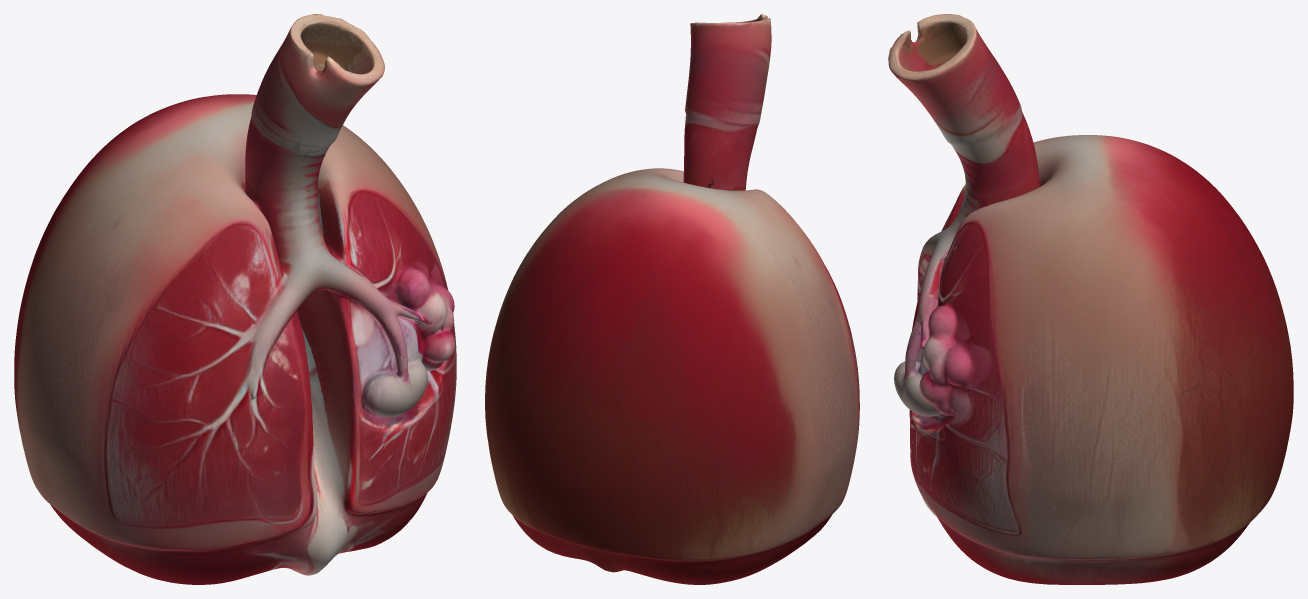
File: vet_v2_path_megaesophagus.glb
The picture shows the model from 3 angles, left to right: view 1: azimuth 30°, elevation 25°; view 2: azimuth 150°, elevation 25°; view 3: azimuth 270°, elevation 25°; orthographic projection. The views are drawn at different scales.
Visible parts, largest first — view 1: model; view 2: model; view 3: model.
Boxes of the visible parts, left/top/right/bottom form: model: left=14, top=14, right=456, bottom=584; model: left=485, top=14, right=859, bottom=584; model: left=888, top=14, right=1293, bottom=584.
Bounding box in the file's own units: 1.38 × 1.9 × 1.36.
1 material, 1 textured.
